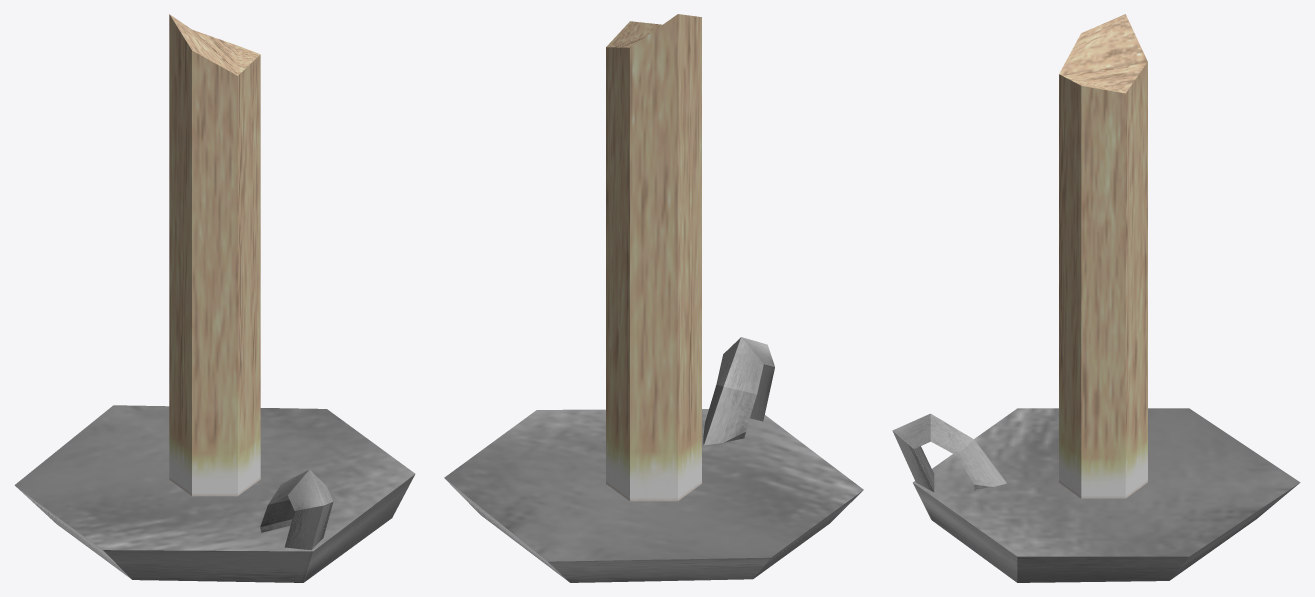
Rendered from table candle.fbx.
3 views of the same model, side by side, from view 1: azimuth 30°, elevation 25°; view 2: azimuth 150°, elevation 25°; view 3: azimuth 270°, elevation 25° (orthographic). The views are drawn at different scales.
Visible parts, largest first — view 1: Cylinder.001; view 2: Cylinder.001; view 3: Cylinder.001.
Boxes of the visible parts, x1,y1,x2,y2 form: Cylinder.001: (14, 14, 415, 582); Cylinder.001: (444, 14, 863, 582); Cylinder.001: (892, 14, 1300, 582).
Bounding box in the file's own units: 80.17 × 124 × 93.35.
